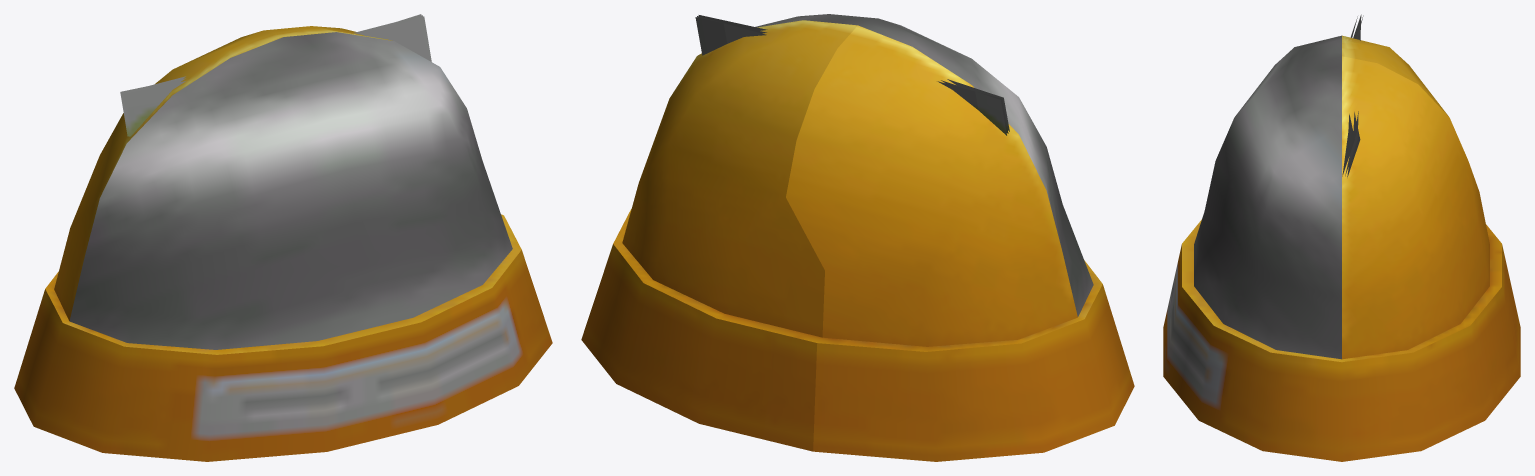
The model's file is dino.fbx.
The picture shows the model from 3 angles, left to right: view 1: azimuth 30°, elevation 25°; view 2: azimuth 150°, elevation 25°; view 3: azimuth 270°, elevation 25°; orthographic projection. The views are drawn at different scales.
Parts seen in each view (by area): view 1: s4studio_mesh_0, s4studio_mesh_2, s4studio_mesh_1; view 2: s4studio_mesh_2, s4studio_mesh_0, s4studio_mesh_1; view 3: s4studio_mesh_2, s4studio_mesh_0, s4studio_mesh_1.
Boxes of the visible parts, box(x1,y1,x2,y2) form: s4studio_mesh_0: box(69, 32, 512, 349); s4studio_mesh_2: box(14, 26, 552, 461); s4studio_mesh_1: box(120, 14, 431, 136); s4studio_mesh_2: box(581, 20, 1134, 461); s4studio_mesh_0: box(755, 14, 1093, 316); s4studio_mesh_1: box(695, 15, 1009, 135); s4studio_mesh_2: box(1163, 35, 1520, 461); s4studio_mesh_0: box(1194, 35, 1341, 359); s4studio_mesh_1: box(1342, 14, 1363, 177).
Size of the model in its own units: 26.15 by 16.43 by 17.99.
3 materials, 3 textured.
